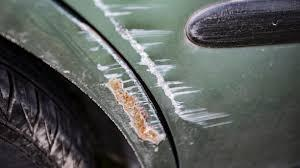scratch: (1, 0, 240, 156)
